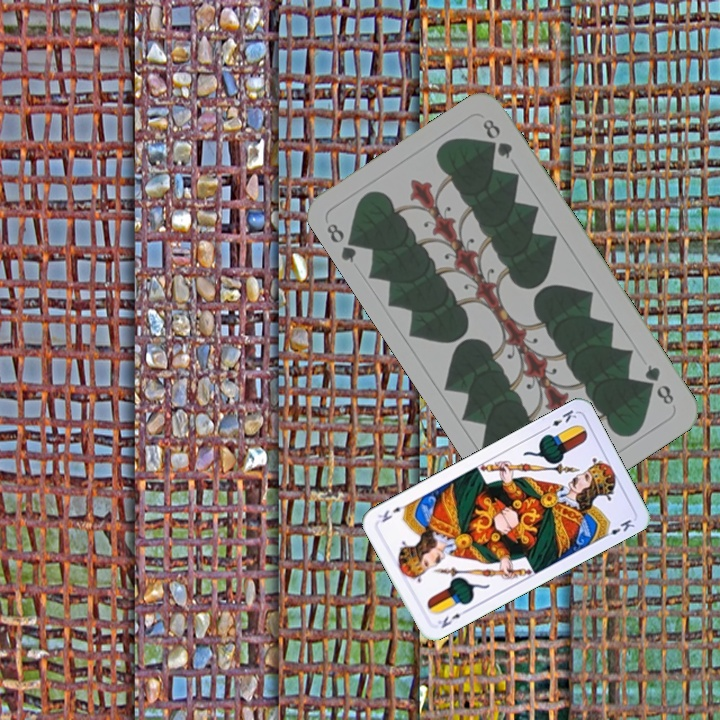EK: (540, 405, 579, 433), (433, 605, 470, 631)
G8: (322, 219, 364, 265), (640, 360, 677, 408)
